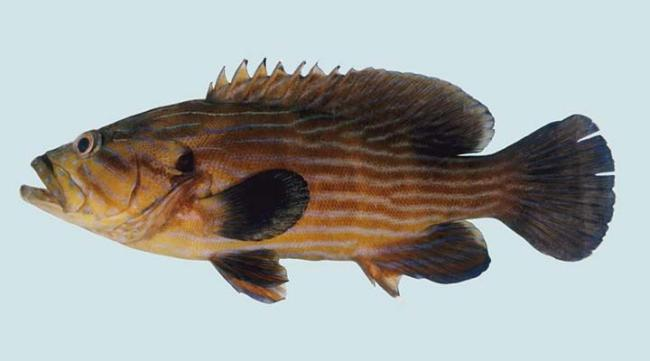fish: (19, 59, 616, 303)
